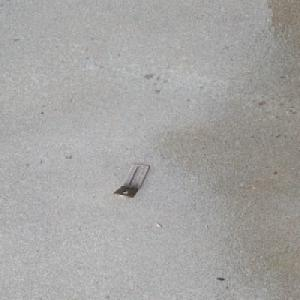MetalPart: (111, 163, 151, 198)
